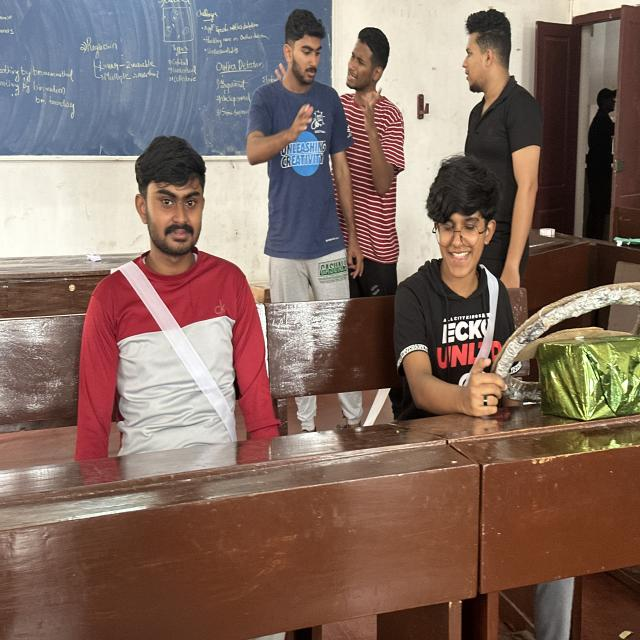seatbelt: (99, 261, 253, 440), (399, 273, 514, 399)
